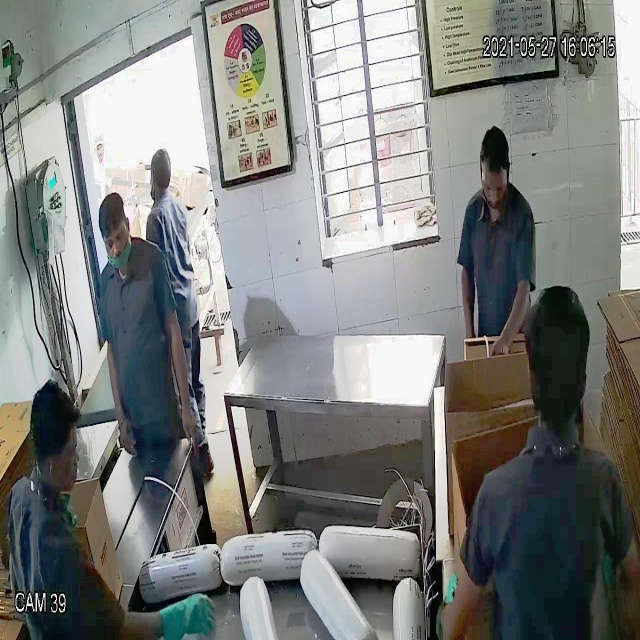Sin_gafas: (100, 222, 132, 259)
